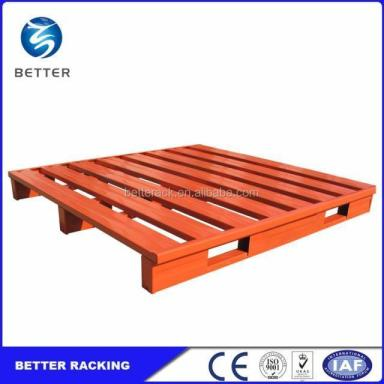pallet: (8, 144, 376, 294)
